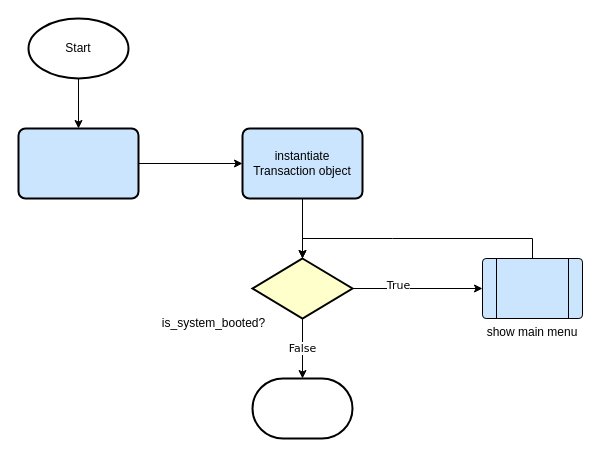
This 600x456 diagram has some shape labels left out. Each missing label, with the centre of its shape:
"End" belongs at (302,408).
"set global var is_system_booted as True" belongs at (78,163).
